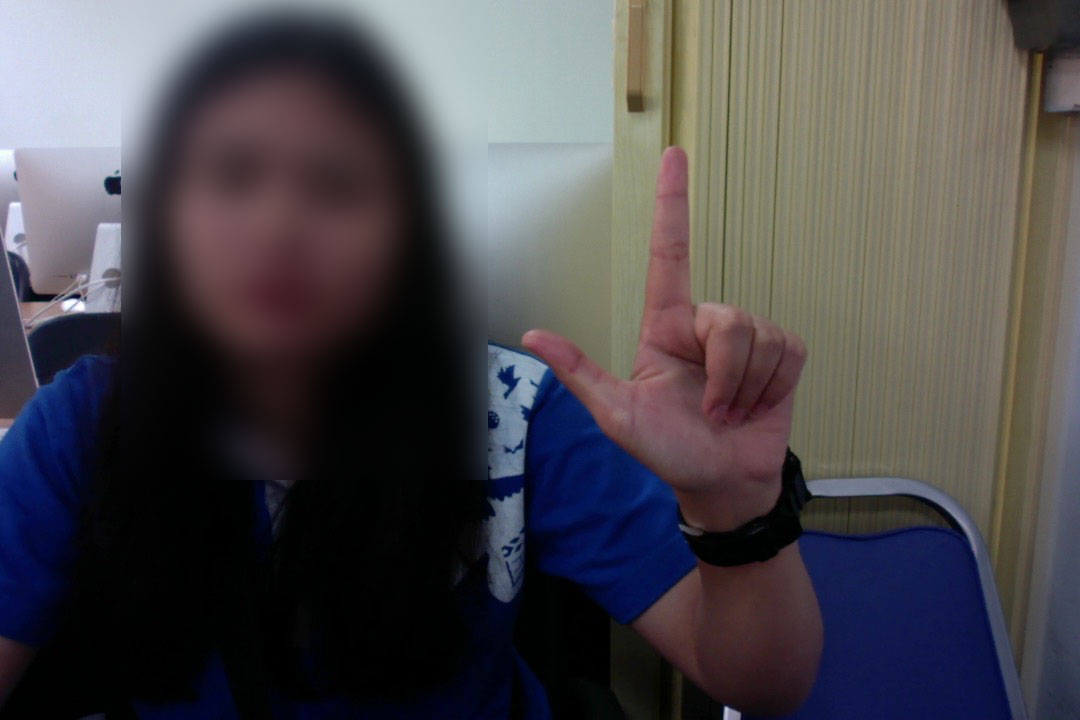lor: (514, 136, 811, 518)
